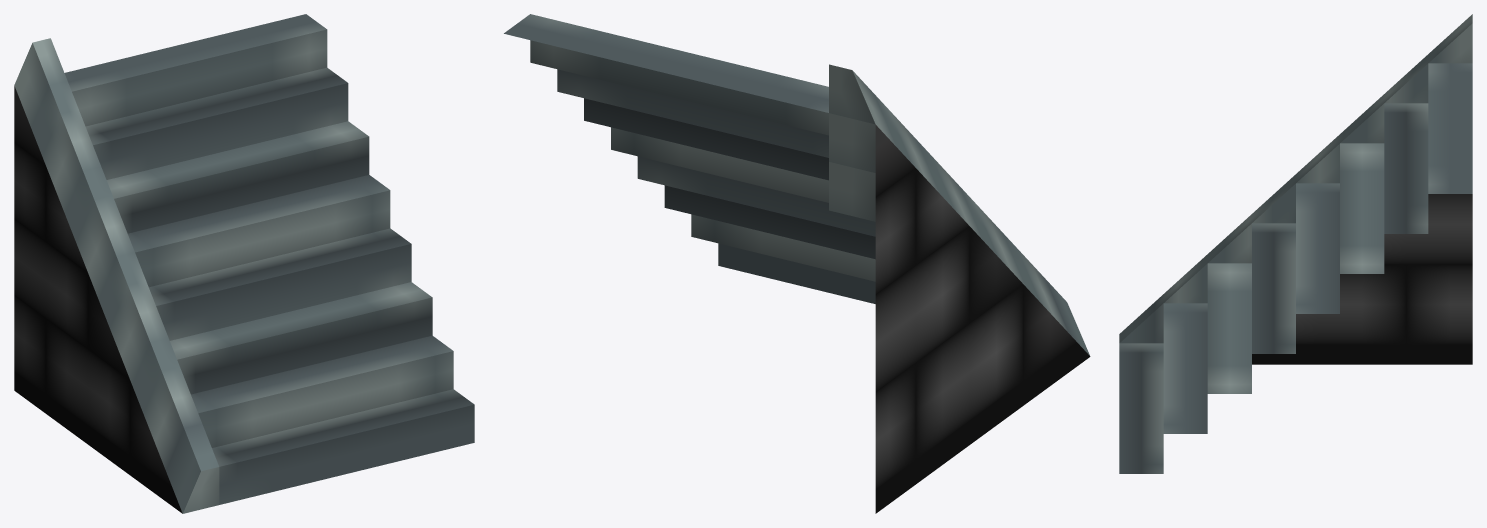
File: stair_left.obj
3 renders of one model, left to right at view 1: azimuth 30°, elevation 25°; view 2: azimuth 150°, elevation 25°; view 3: azimuth 270°, elevation 25°, orthographic. The views are drawn at different scales.
Visible parts, largest first — view 1: Default; view 2: Default; view 3: Default.
Part boxes in pixels (box(x1,y1,x2,y2)): Default: box(14, 14, 474, 513); Default: box(504, 14, 1090, 513); Default: box(1119, 14, 1472, 473).
Bounding box in the file's own units: 1 × 1.12 × 1.
